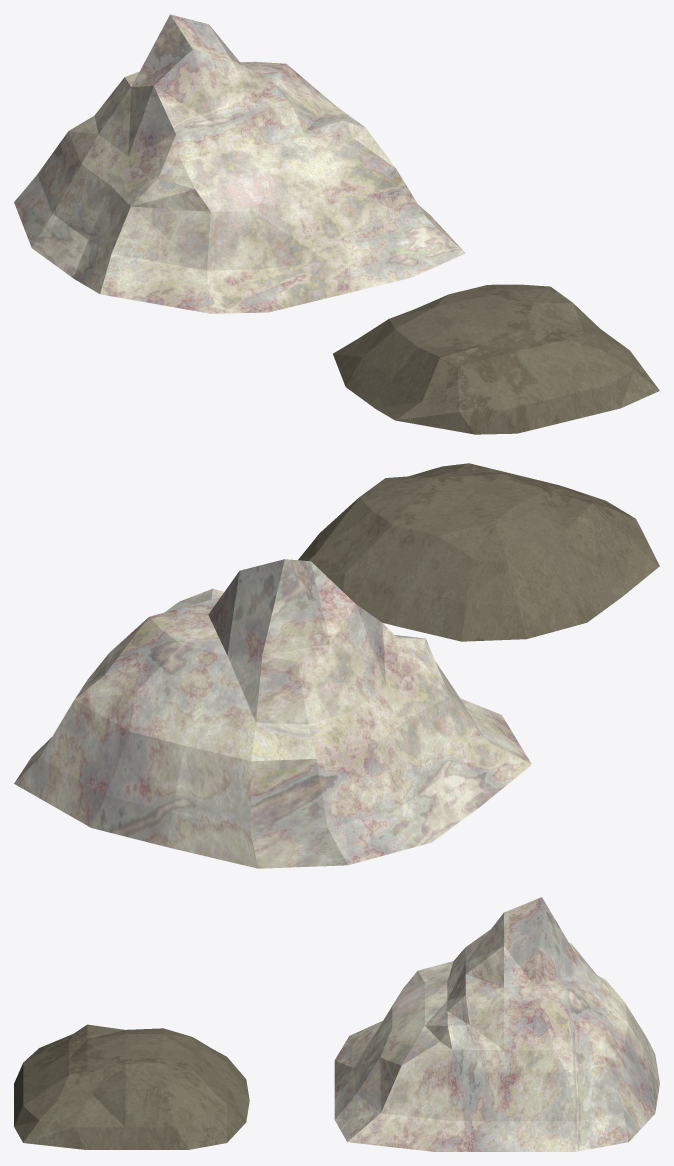
Rendered from Rocks.fbx.
3 renders of one model, top to bottom at view 1: azimuth 30°, elevation 25°; view 2: azimuth 150°, elevation 25°; view 3: azimuth 270°, elevation 25°, orthographic. The views are drawn at different scales.
Visible parts, largest first — view 1: SpikyRock, SteppingStoneRock; view 2: SpikyRock, SteppingStoneRock; view 3: SpikyRock, SteppingStoneRock.
Part boxes in pixels (x1,y1,x2,y2): SpikyRock: (14,14,465,313); SteppingStoneRock: (333,284,659,434); SpikyRock: (14,559,531,868); SteppingStoneRock: (298,463,659,641); SpikyRock: (334,897,659,1151); SteppingStoneRock: (14,1024,249,1149).
Bounding box in the file's own units: 326 × 190 × 634.
Materials: 2 (2 with a texture image).
